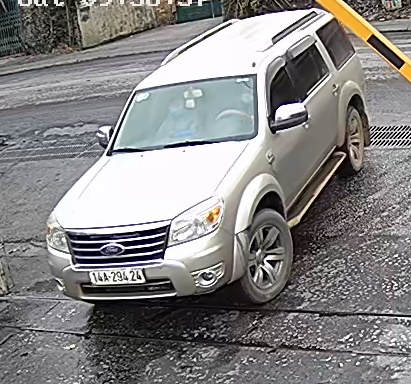vehicle plate: (87, 263, 150, 289)
